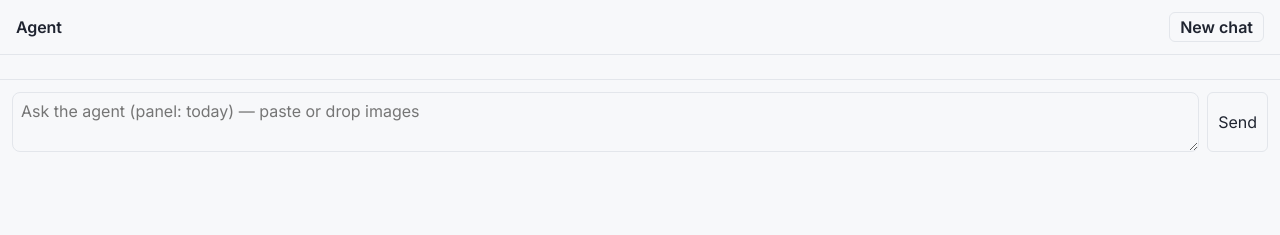
AgentChat › connect timeout closes the socket, returns to idle and restores the draft
Type "hello" into the text box named "Message to the agent" at x=606, y=122, box [12,92,1199,152]
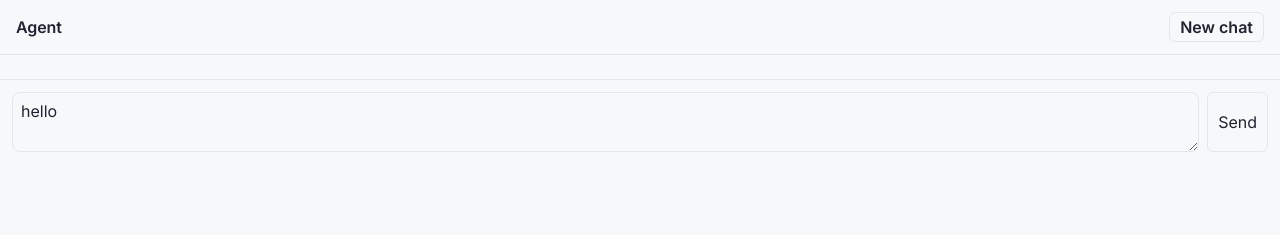
Click the button "Send" at x=1238, y=122, box [1207,92,1268,152]
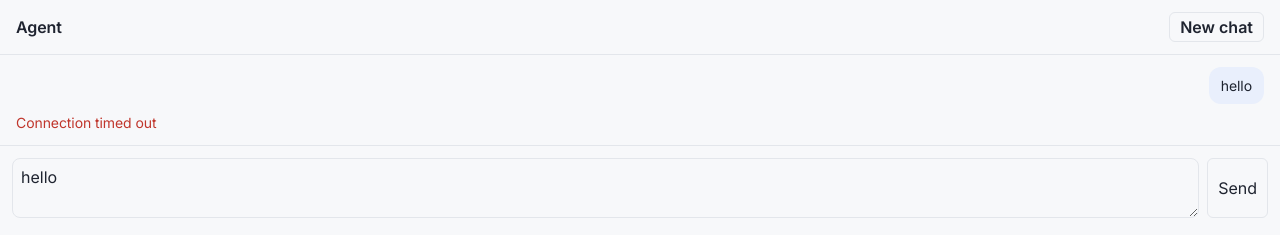
Expected: the button "Send" is shown, [1207,158,1268,218]
Result: the text "Connection timed out" is shown at [16,114,156,131]
